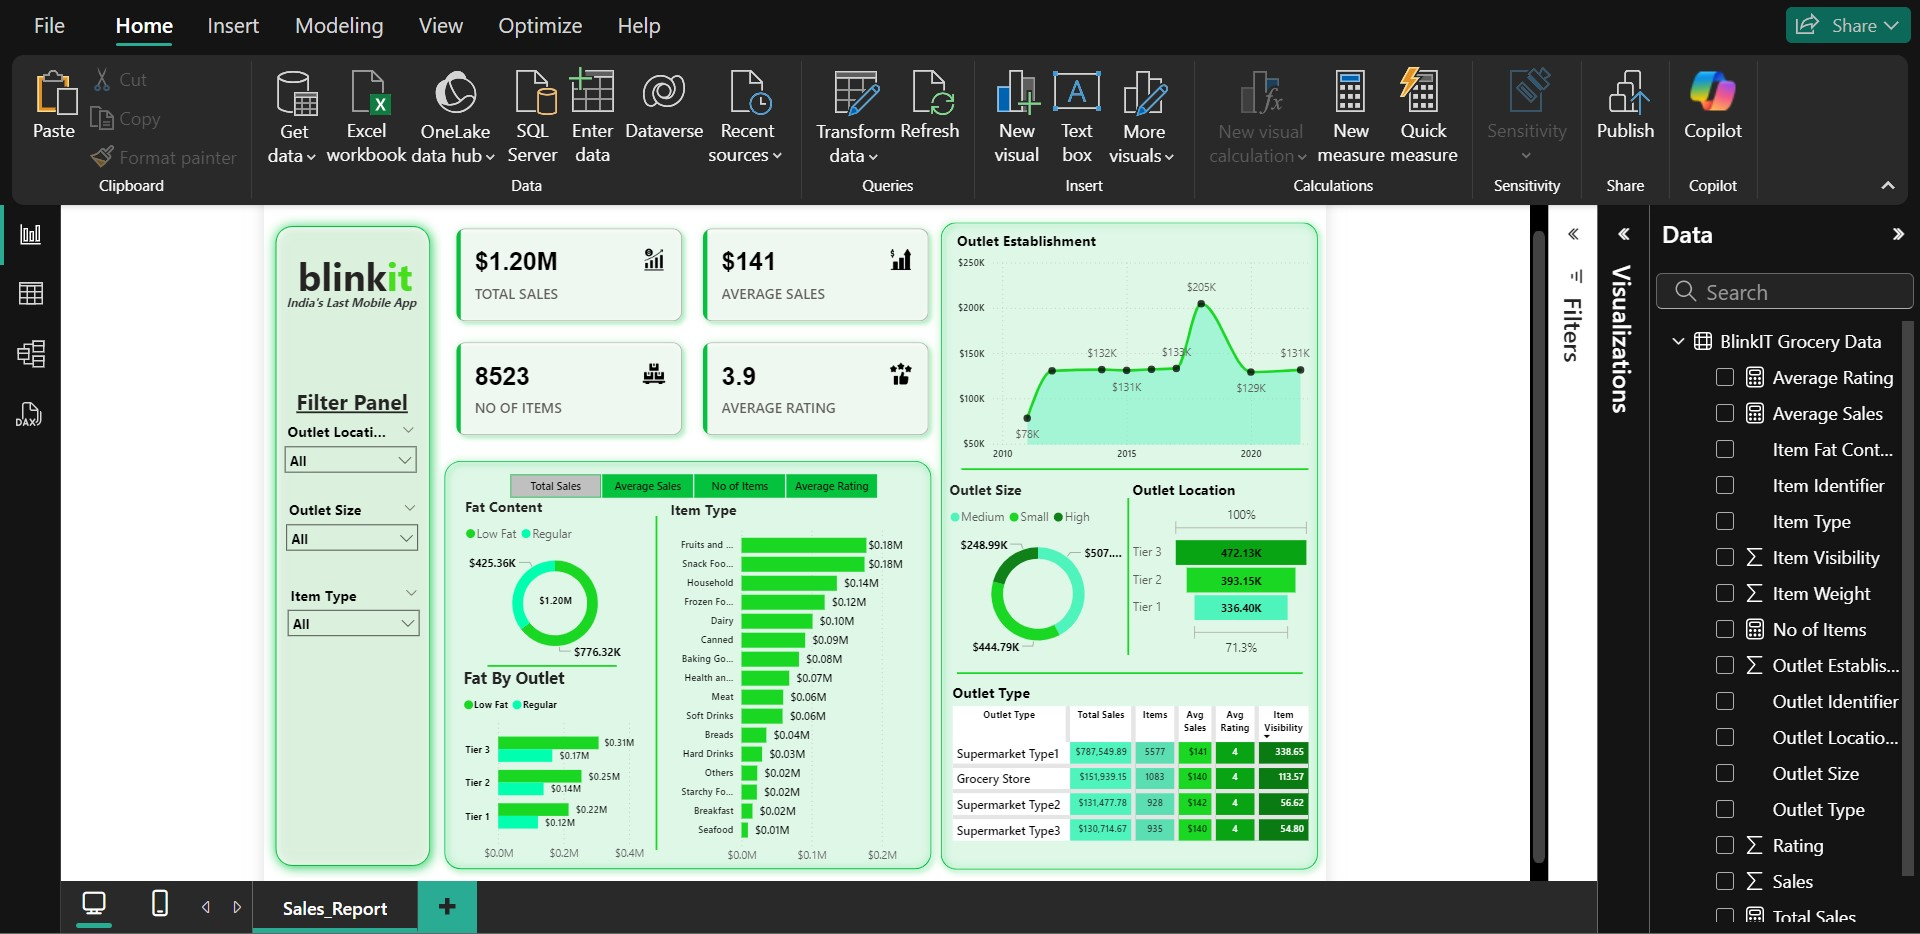

The page's visual inventory and layout, read from the dashboard file:
{"tool":"powerbi","page":{"name":"Sales_Report","canvas":[1200,800],"ordinal":0},"visuals":[{"type":"shape","box":[0,24.9,200.6,749.1],"z":0},{"type":"textbox","box":[27.7,61.5,151.4,66.9],"z":1000},{"type":"textbox","box":[20.9,110.8,165.5,35.1],"z":2000},{"type":"cardVisual","fields":{"Data":["BlinkIT Grocery Data.Total Sales","BlinkIT Grocery Data.Average Sales","BlinkIT Grocery Data.No of Items","BlinkIT Grocery Data.Average Rating"]},"box":[200,24.5,569.8,269.8],"z":3000},{"type":"shape","box":[195.3,294.7,568.1,479.3],"z":4000},{"type":"donutChart","title":"Fat Content","fields":{"Y":["BlinkIT Grocery Data.Total Sales"],"Category":["BlinkIT Grocery Data.Item Fat Content"]},"box":[221.9,344.4,213,189.9],"z":5000},{"type":"slicer","fields":{"Values":["MATRIX.MATRIX"]},"box":[252.8,311.3,464.2,40],"z":6000},{"type":"cardVisual","fields":{"Data":["BlinkIT Grocery Data.Total Sales"]},"box":[292.5,437.7,73.6,47.2],"z":7000},{"type":"clusteredBarChart","title":"Fat By Outlet","fields":{"Y":["BlinkIT Grocery Data.Total Sales"],"Category":["BlinkIT Grocery Data.Outlet Location Type"],"Series":["BlinkIT Grocery Data.Item Fat Content"]},"box":[220.1,536.1,220.1,229],"z":8000},{"type":"shape","box":[252.6,531.6,146.1,6.6],"z":9000},{"type":"shape","box":[435.5,365.8,15.8,377.6],"z":10000},{"type":"barChart","title":"Item Type","fields":{"Y":["BlinkIT Grocery Data.Total Sales"],"Category":["BlinkIT Grocery Data.Item Type"]},"box":[454.2,347.2,288.9,419.4],"z":11000},{"type":"shape","box":[756.2,24.9,443.8,749.1],"z":12000},{"type":"lineChart","title":"Outlet Establishment","fields":{"Y":["BlinkIT Grocery Data.Total Sales"],"Category":["BlinkIT Grocery Data.Outlet Establishment Year"]},"box":[778,44,410,268],"z":13000},{"type":"shape","box":[788.2,303.6,392.3,19.5],"z":14000},{"type":"donutChart","title":"Outlet Size","fields":{"Y":["BlinkIT Grocery Data.Total Sales"],"Category":["BlinkIT Grocery Data.Outlet Size"]},"box":[768.7,324.9,209.5,205.9],"z":15000},{"type":"shape","box":[969.3,346.2,14.2,177.5],"z":16000},{"type":"funnel","title":"Outlet Location","fields":{"Y":["Sum(BlinkIT Grocery Data.Sales)"],"Category":["BlinkIT Grocery Data.Outlet Location Type"]},"box":[976.4,324.9,211.2,204.1],"z":17000},{"type":"shape","box":[782.9,534.3,390.5,19.5],"z":17001},{"type":"pivotTable","title":"Outlet Type","fields":{"Rows":["BlinkIT Grocery Data.Outlet Type"],"Values":["BlinkIT Grocery Data.Total Sales","BlinkIT Grocery Data.No of Items","BlinkIT Grocery Data.Average Sales","BlinkIT Grocery Data.Average Rating","Sum(BlinkIT Grocery Data.Item Visibility)"]},"box":[772.2,553.9,415.4,213],"z":17002},{"type":"slicer","fields":{"Values":["BlinkIT Grocery Data.Outlet Location Type"]},"box":[14.2,253.6,168.6,76.3],"z":17004},{"type":"slicer","fields":{"Values":["BlinkIT Grocery Data.Outlet Size"]},"box":[16,342.4,168.6,76.3],"z":17005},{"type":"slicer","fields":{"Values":["BlinkIT Grocery Data.Item Type"]},"box":[17.8,438.2,168.6,76.3],"z":17006},{"type":"textbox","box":[16,214.8,168.6,53.3],"z":17007}]}

Visuals, with their boxes on the page's 1200x800 design canvas (x1, y1, x2, y2). These are canvas units, not pixel positions in the 1920x934 screenshot, which may show the page scaled, cropped or inside an application window:
shape: 0/25/201/774
textbox: 28/62/179/128
textbox: 21/111/186/146
cardVisual - BlinkIT Grocery Data.Total Sales x BlinkIT Grocery Data.Average Sales: 200/24/770/294
shape: 195/295/763/774
"Fat Content" donutChart: 222/344/435/534
slicer - MATRIX.MATRIX: 253/311/717/351
cardVisual - BlinkIT Grocery Data.Total Sales: 292/438/366/485
"Fat By Outlet" clusteredBarChart: 220/536/440/765
shape: 253/532/399/538
shape: 436/366/451/743
"Item Type" barChart: 454/347/743/767
shape: 756/25/1200/774
"Outlet Establishment" lineChart: 778/44/1188/312
shape: 788/304/1180/323
"Outlet Size" donutChart: 769/325/978/531
shape: 969/346/984/524
"Outlet Location" funnel: 976/325/1188/529
shape: 783/534/1173/554
"Outlet Type" pivotTable: 772/554/1188/767
slicer - BlinkIT Grocery Data.Outlet Location Type: 14/254/183/330
slicer - BlinkIT Grocery Data.Outlet Size: 16/342/185/419
slicer - BlinkIT Grocery Data.Item Type: 18/438/186/514
textbox: 16/215/185/268
